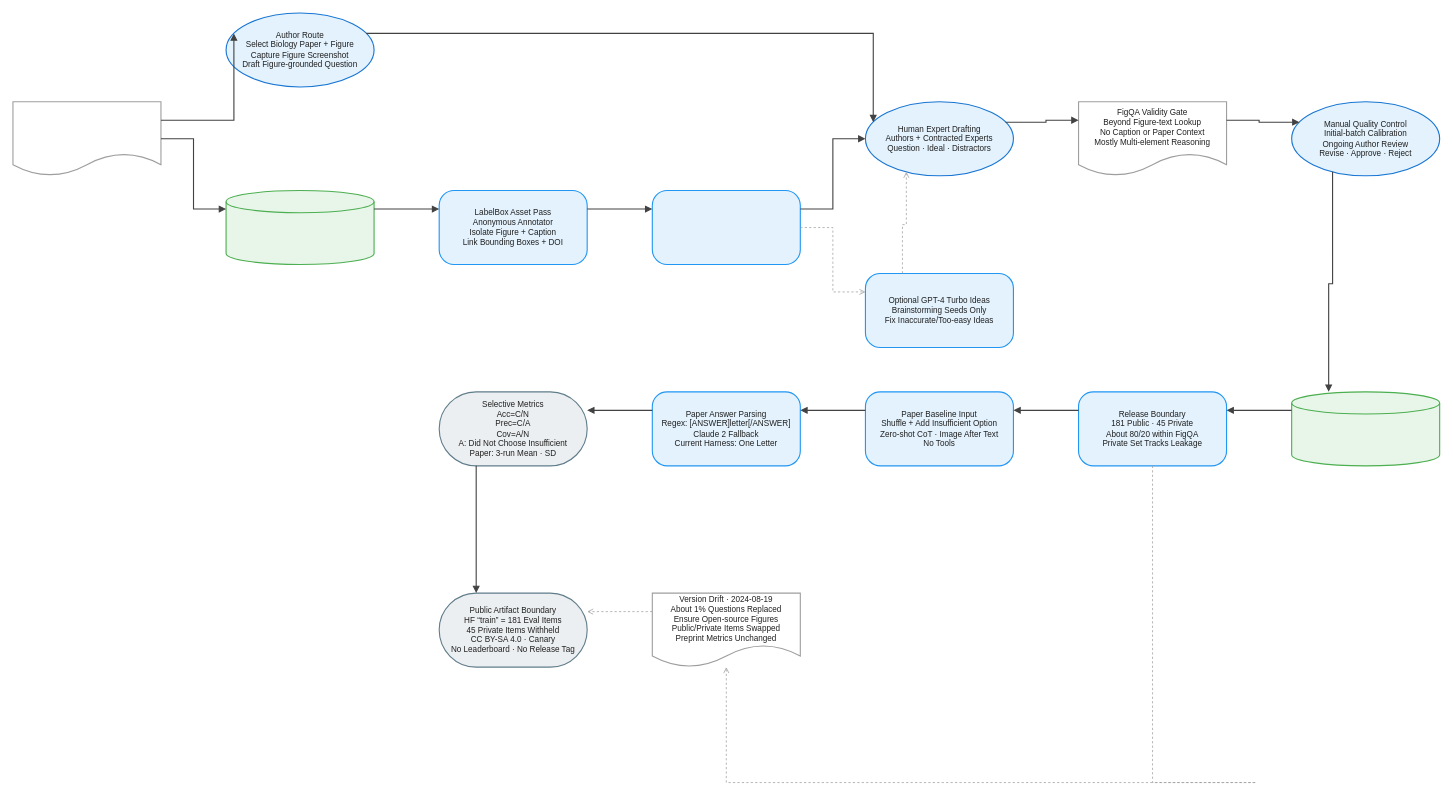
The diagram is 1453 pixels wide and 802 high, and some of its shapes have lost their labels. The shapes that lost their labels are listed below. From the top down, each one's box as (x1, y1, x2, y2) in pixels, then its label:
(12, 101, 161, 176): Evidence Lock arXiv 2407.10362v3 · 2024-07-17 Git 998a8e0 · HF 5c77cec
(225, 190, 374, 265): Contractor Route Auto-assemble Paper Trove Select Candidate Figures
(651, 190, 801, 265): Airtable Authoring Interface Serve Figure + Metadata Contractors Draft Q&A
(1291, 391, 1440, 466): Full FigQA · 226 MCQs Figure · Question · Ideal Distractors · DOI · Canary
